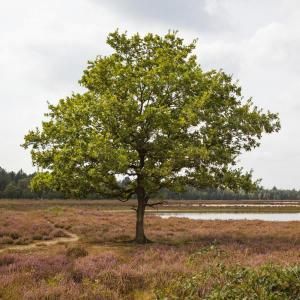Tree: (18, 27, 281, 241)
